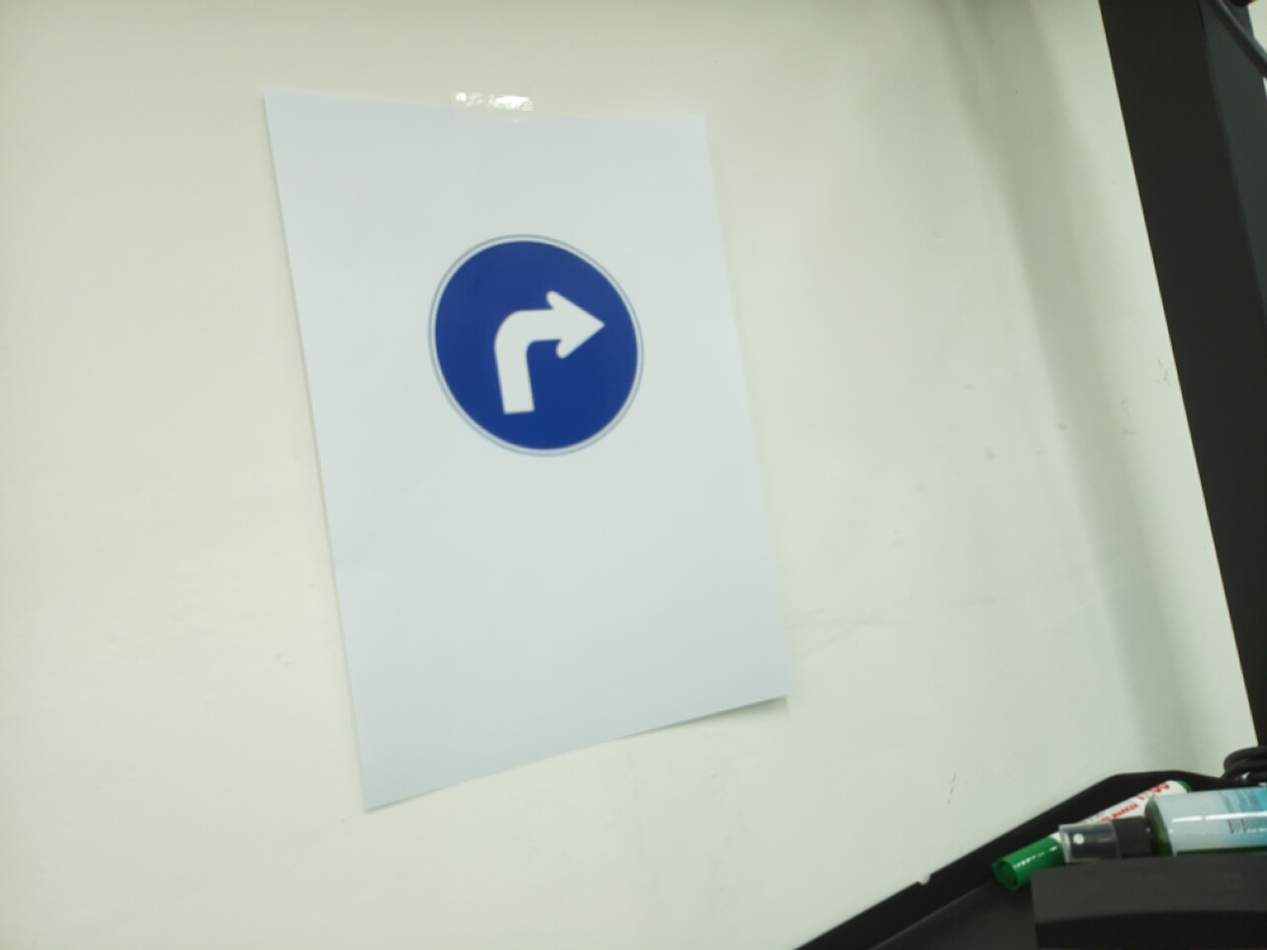right_turn: (427, 233, 645, 458)
